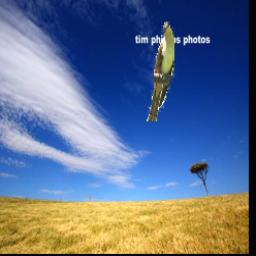Cuckoo: (148, 21, 175, 121)
